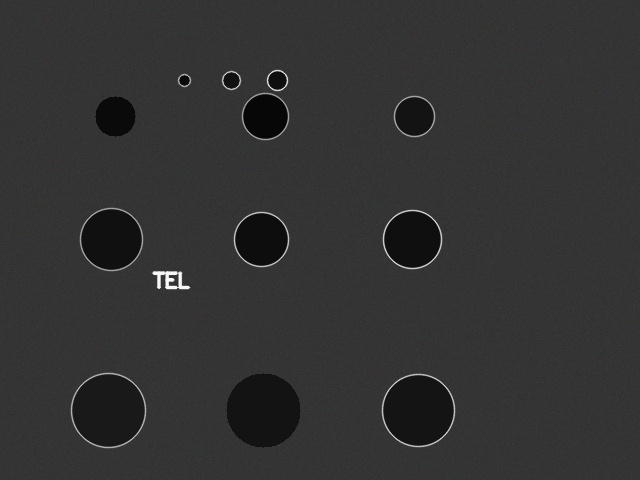hole: (71, 373, 145, 447), (226, 373, 300, 447), (382, 374, 454, 446), (80, 208, 142, 270), (383, 210, 441, 268), (234, 212, 288, 266), (242, 93, 288, 139), (95, 96, 135, 136), (394, 96, 434, 136), (267, 70, 287, 90), (222, 71, 240, 89), (178, 74, 190, 86)
